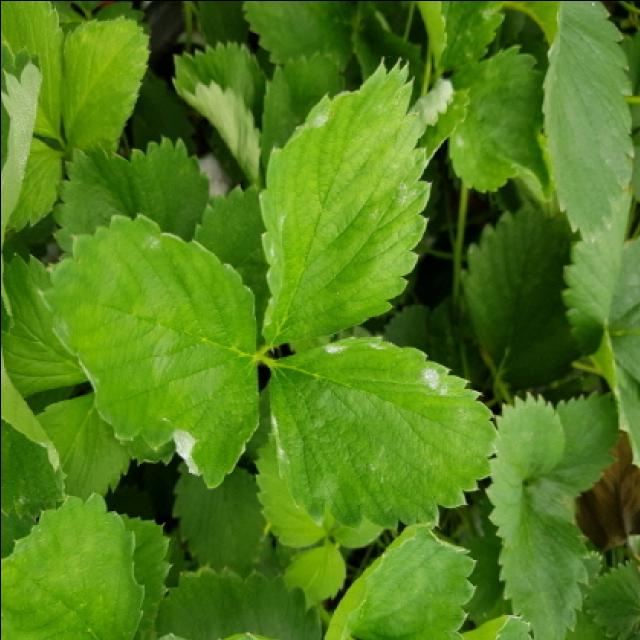Powdery Mildew Leaf: (36, 211, 260, 490), (257, 55, 432, 345), (264, 334, 502, 532), (446, 43, 554, 202), (417, 2, 506, 69)
